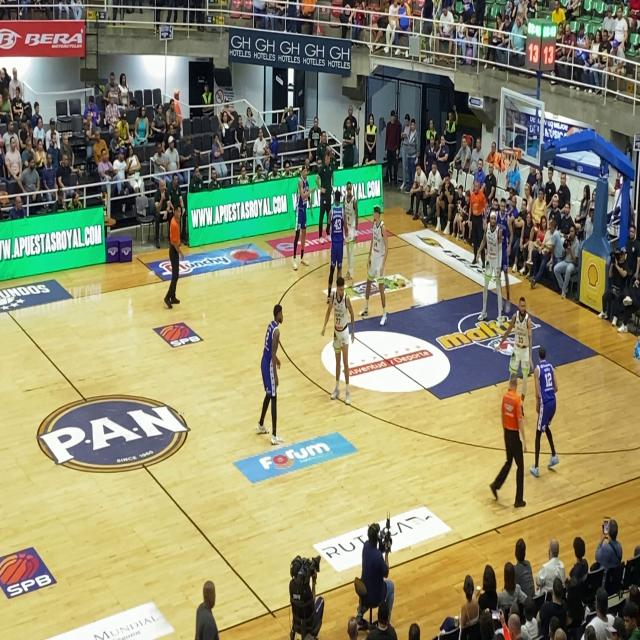referee: (490, 366, 528, 514), (156, 198, 190, 318), (462, 170, 488, 268)
team1: (322, 266, 360, 402), (473, 197, 505, 330), (501, 276, 535, 386), (366, 203, 390, 322), (342, 168, 362, 282)
team2: (248, 292, 285, 443), (532, 344, 566, 482), (288, 150, 316, 296), (495, 196, 518, 322), (323, 178, 350, 283)
ubasket: (502, 145, 520, 174)
